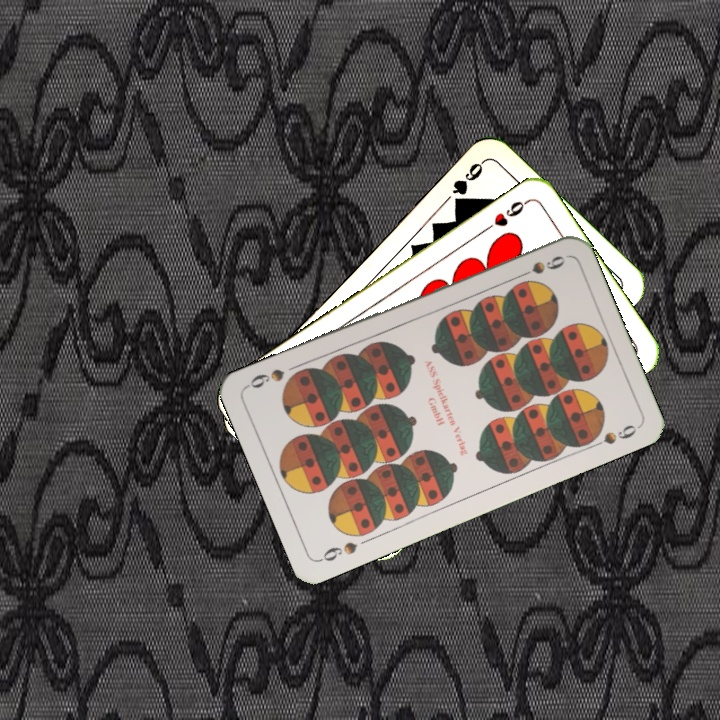G9: (447, 156, 487, 210)
H9: (479, 196, 531, 235)
S9: (511, 251, 568, 282), (315, 537, 361, 564)
